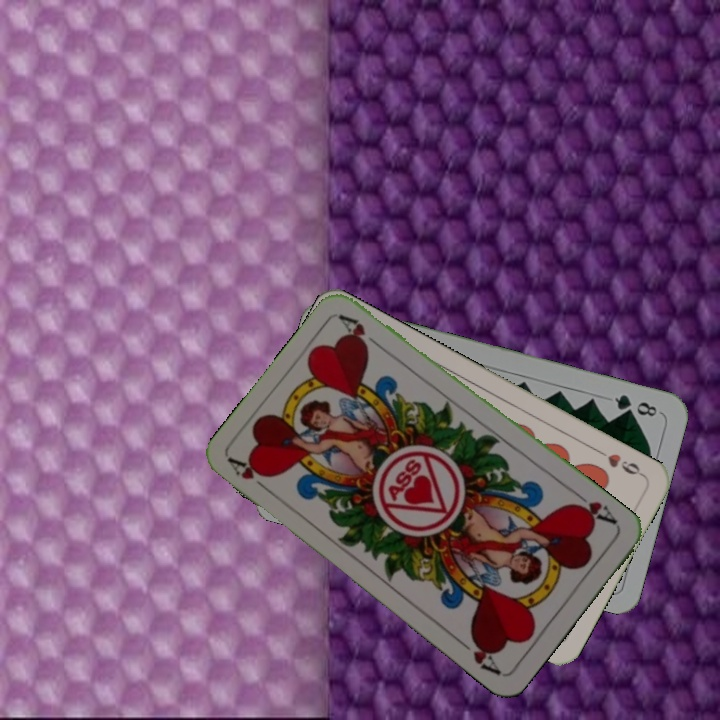G8: (610, 390, 660, 419)
H9: (592, 445, 647, 480)
HA: (225, 454, 276, 497), (567, 488, 620, 528)
